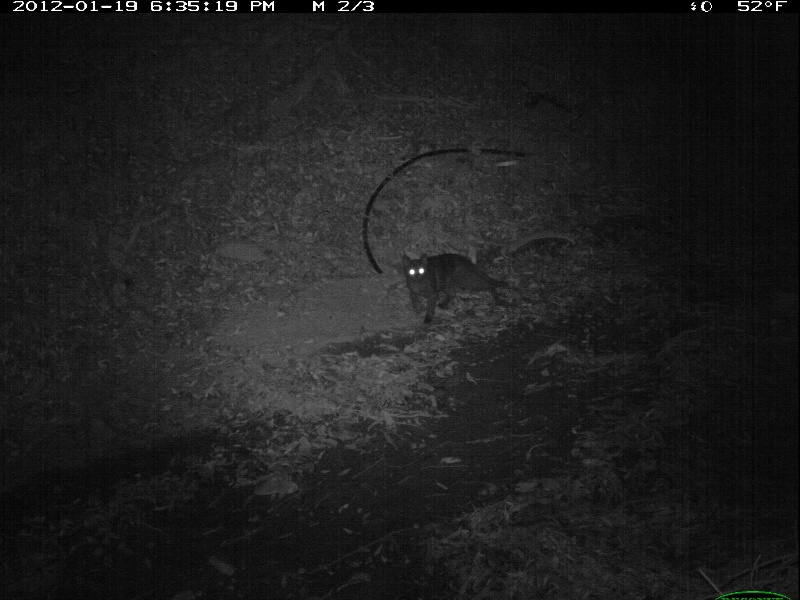cat: (400, 251, 519, 328)
